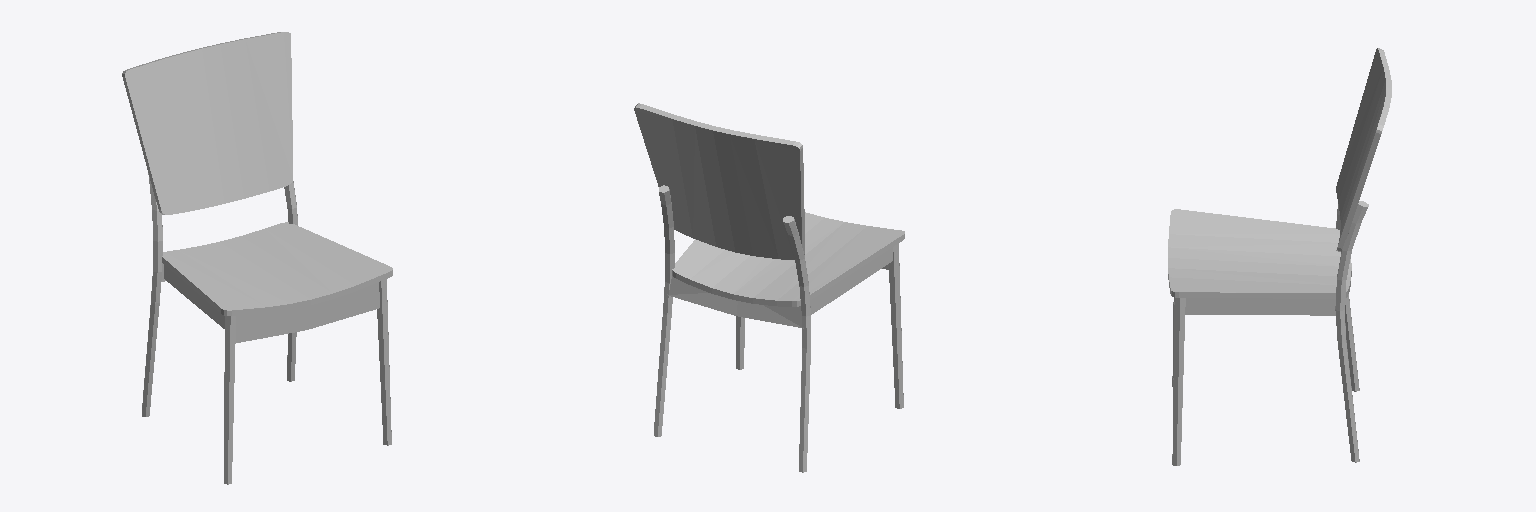
Rendered from CHAIR.obj.
The picture shows the model from 3 angles: view 1: azimuth 30°, elevation 25°; view 2: azimuth 150°, elevation 25°; view 3: azimuth 270°, elevation 25°; orthographic projection.
Visible parts, largest first — view 1: Cylinder003; view 2: Cylinder003; view 3: Cylinder003.
Part boxes in pixels (x1,y1,x2,y2): Cylinder003: (122, 32, 392, 484); Cylinder003: (634, 103, 904, 472); Cylinder003: (1168, 48, 1391, 465).
Bounding box in the file's own units: 36.15 × 68.79 × 41.29.